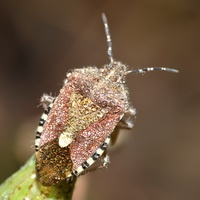insect: (35, 13, 177, 184)
